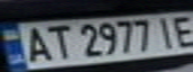2: (75, 20, 103, 57)
7: (133, 16, 157, 52), (115, 18, 139, 54)
9: (96, 19, 121, 56)
A: (18, 24, 54, 63)
E: (169, 12, 193, 48)
I: (151, 15, 181, 49)
T: (42, 22, 75, 61)
